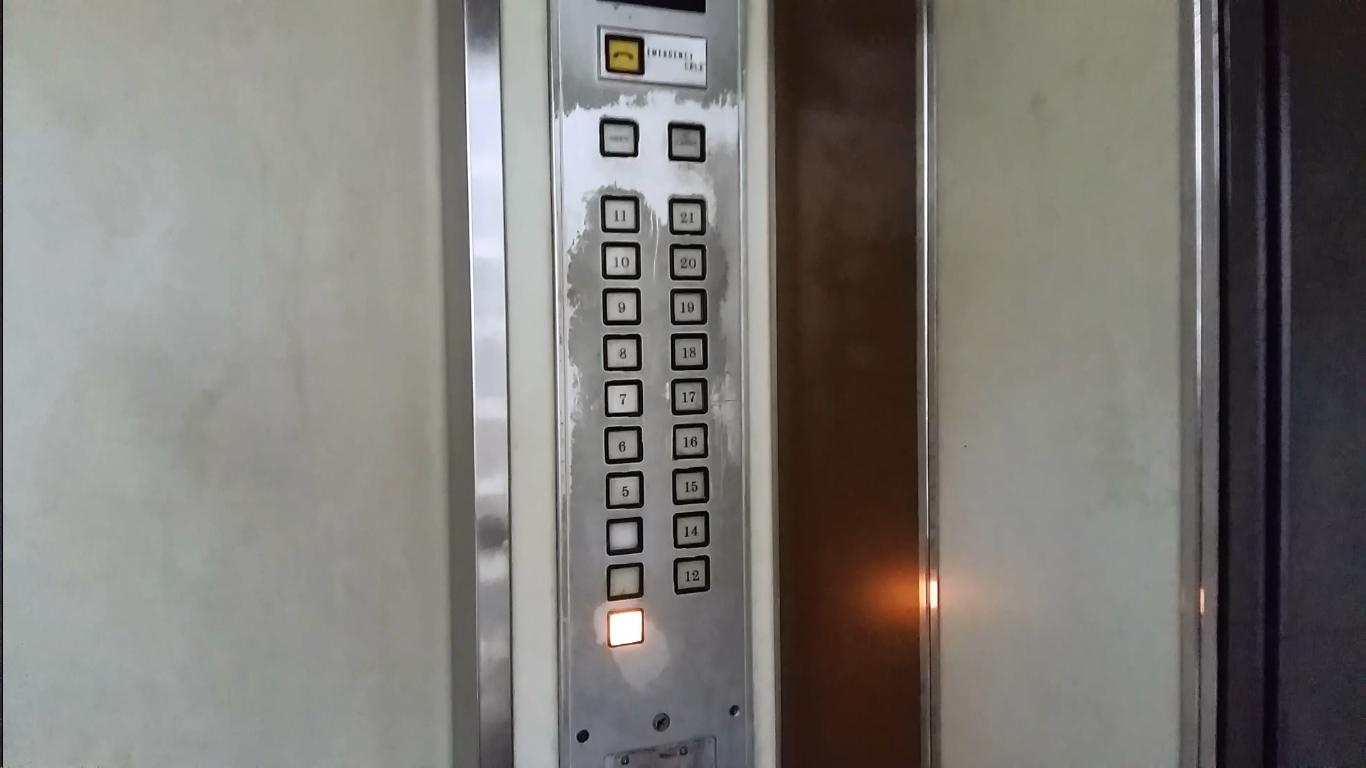10: (601, 241, 642, 281)
11: (601, 195, 641, 233)
114: (672, 510, 710, 550)
12: (672, 555, 710, 596)
15: (672, 467, 709, 506)
16: (672, 423, 708, 460)
17: (670, 377, 709, 416)
18: (670, 333, 708, 371)
19: (668, 286, 709, 326)
20: (669, 241, 708, 281)
21: (669, 196, 707, 236)
5: (606, 472, 645, 510)
6: (604, 426, 644, 464)
7: (604, 379, 644, 418)
8: (602, 333, 642, 372)
9: (601, 286, 642, 325)
call: (604, 30, 646, 76)
empty: (605, 517, 645, 556), (606, 561, 644, 602), (607, 607, 645, 648)
keyhole: (649, 711, 674, 734)
text_blur: (599, 115, 641, 158), (666, 119, 705, 162)
